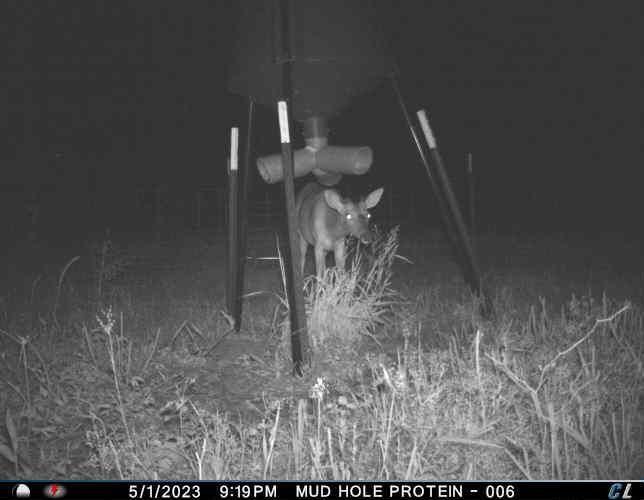Deer: (291, 179, 389, 284)
